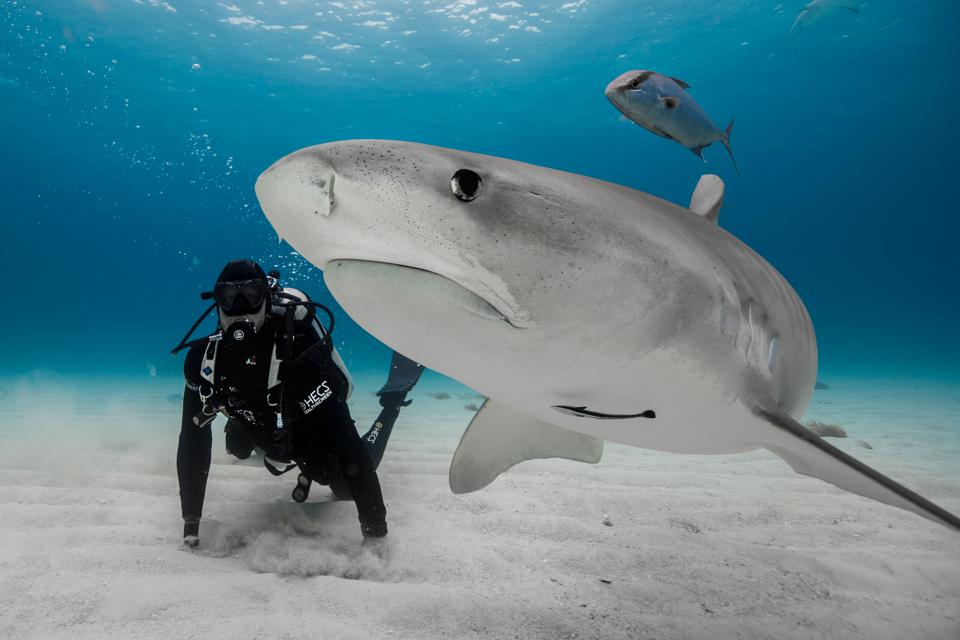shark: (227, 121, 960, 519)
